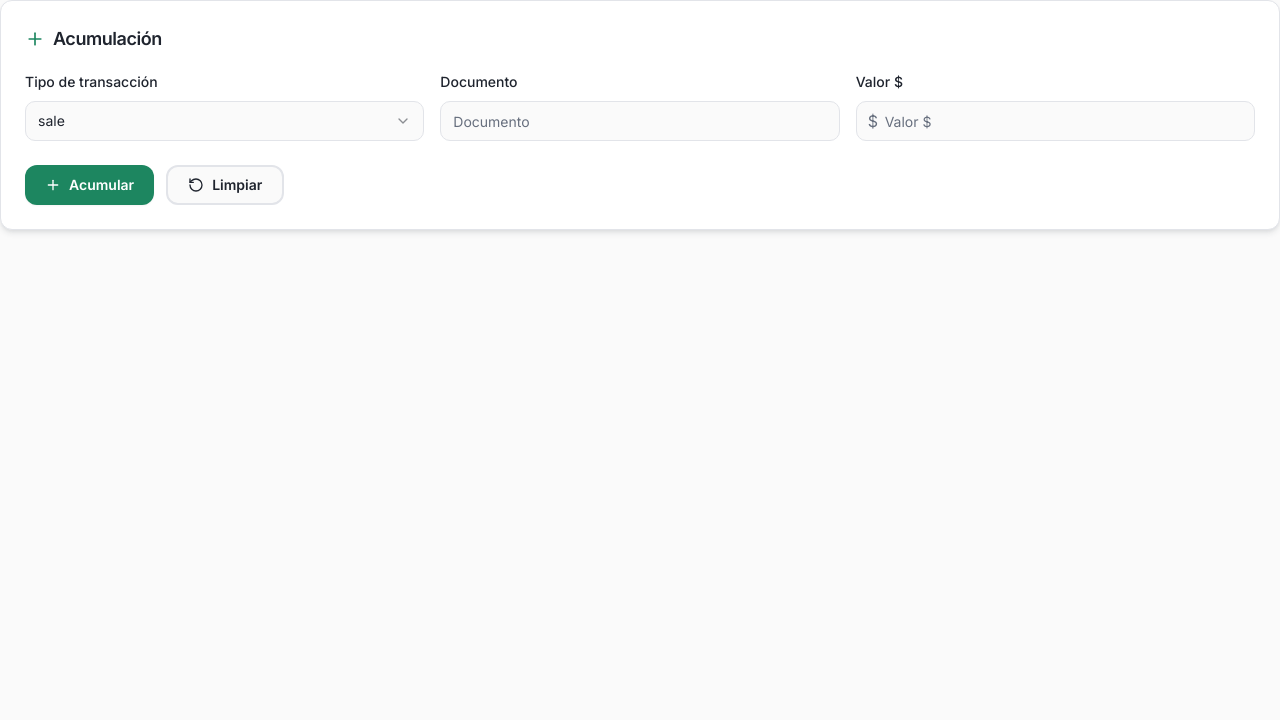
Test case: AccumulationForm › shows error for 401 UNAUTHORIZED
Expected: the button "Acumular" is enabled, x1=25 y1=165 x2=154 y2=205
Type "12345678" into the field with test id "acc-document" at (640, 121), box x1=440 y1=101 x2=840 y2=141
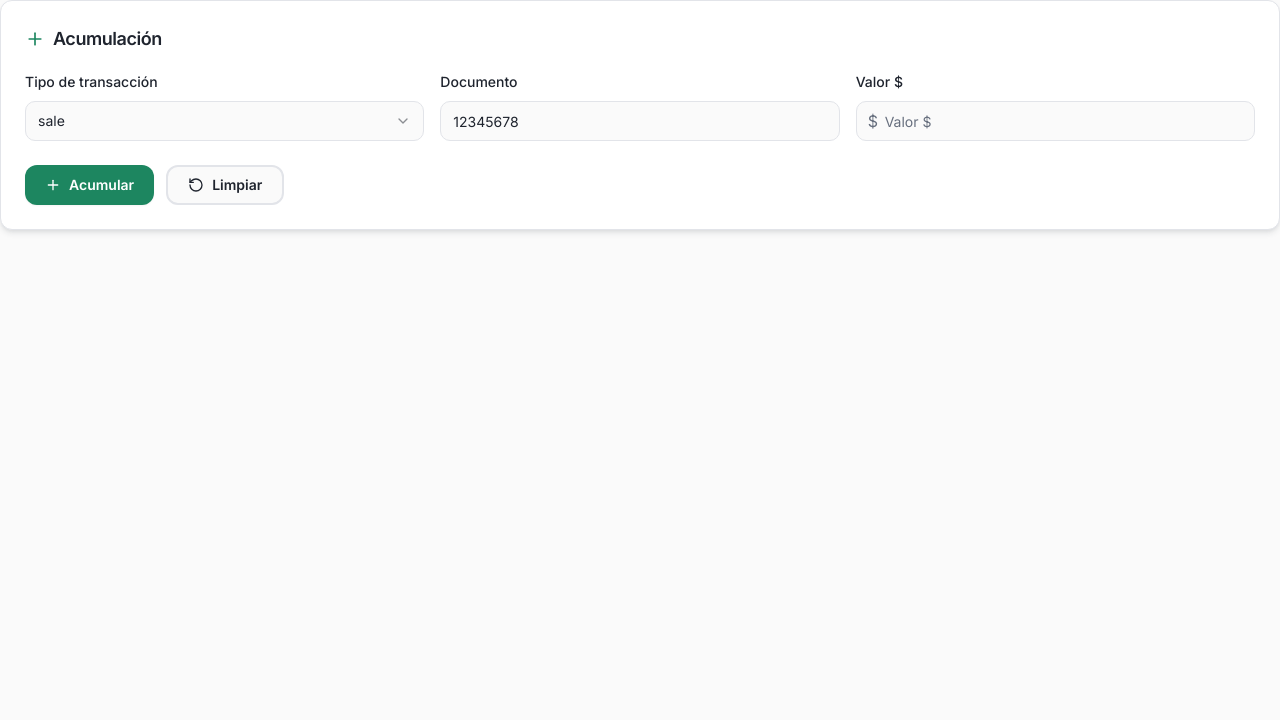
Type "100" into the number field with test id "acc-value" at (1055, 121), box x1=856 y1=101 x2=1255 y2=141
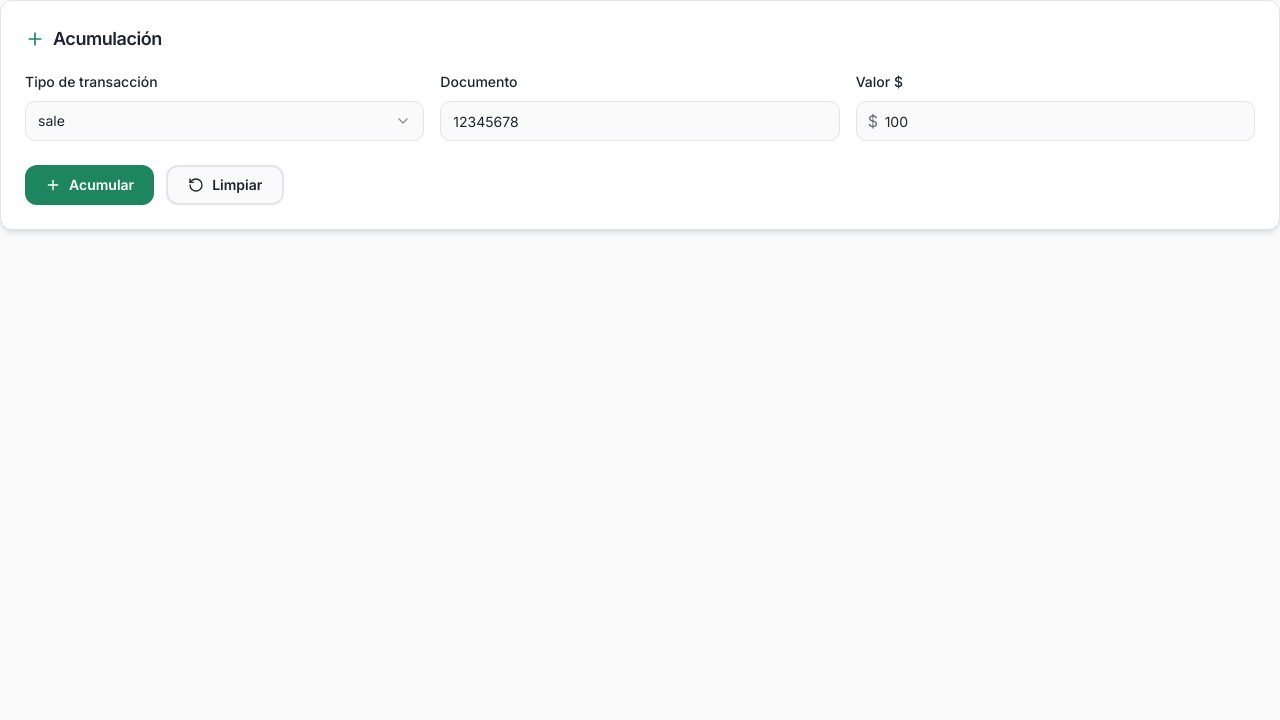
Click the button "Acumular" at (90, 185), box x1=25 y1=165 x2=154 y2=205
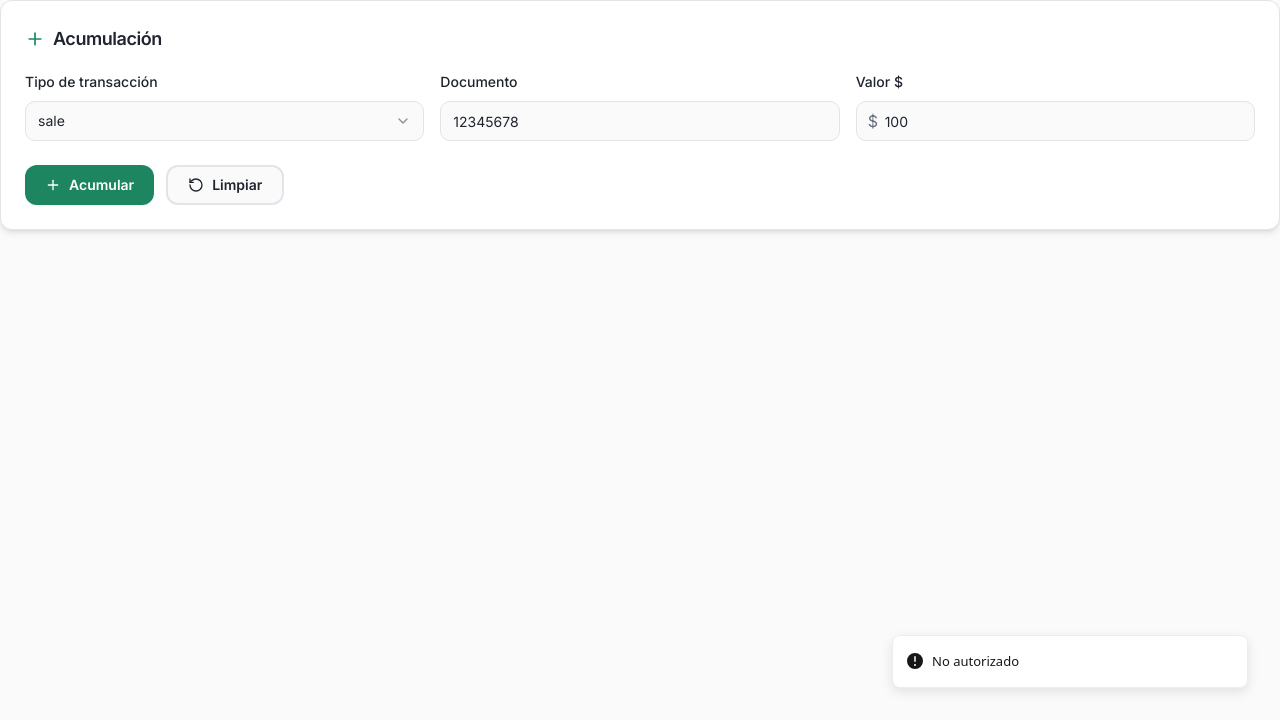
Expected: the text "No autorizado" is shown, x1=932 y1=652 x2=1019 y2=671
